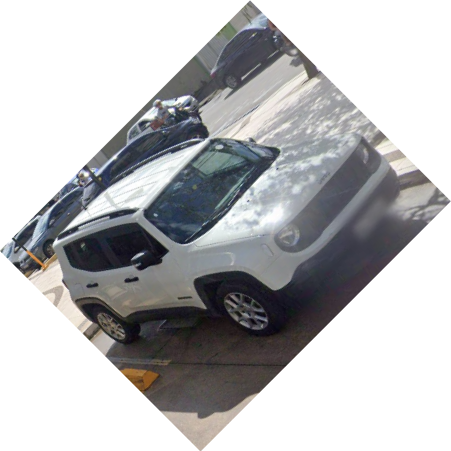car: (49, 131, 402, 346)
